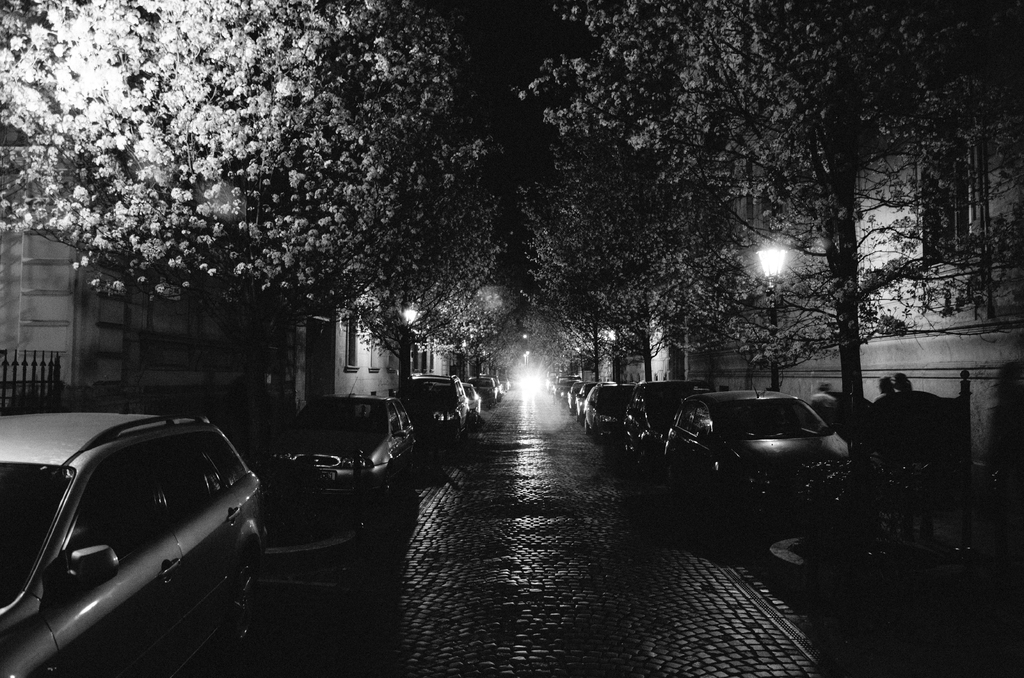Car: (0, 407, 270, 677), (657, 380, 852, 517), (257, 377, 414, 503), (621, 375, 725, 476), (389, 371, 467, 437), (584, 379, 638, 443), (572, 377, 605, 424), (466, 377, 500, 403), (461, 381, 480, 419), (567, 376, 585, 412)
